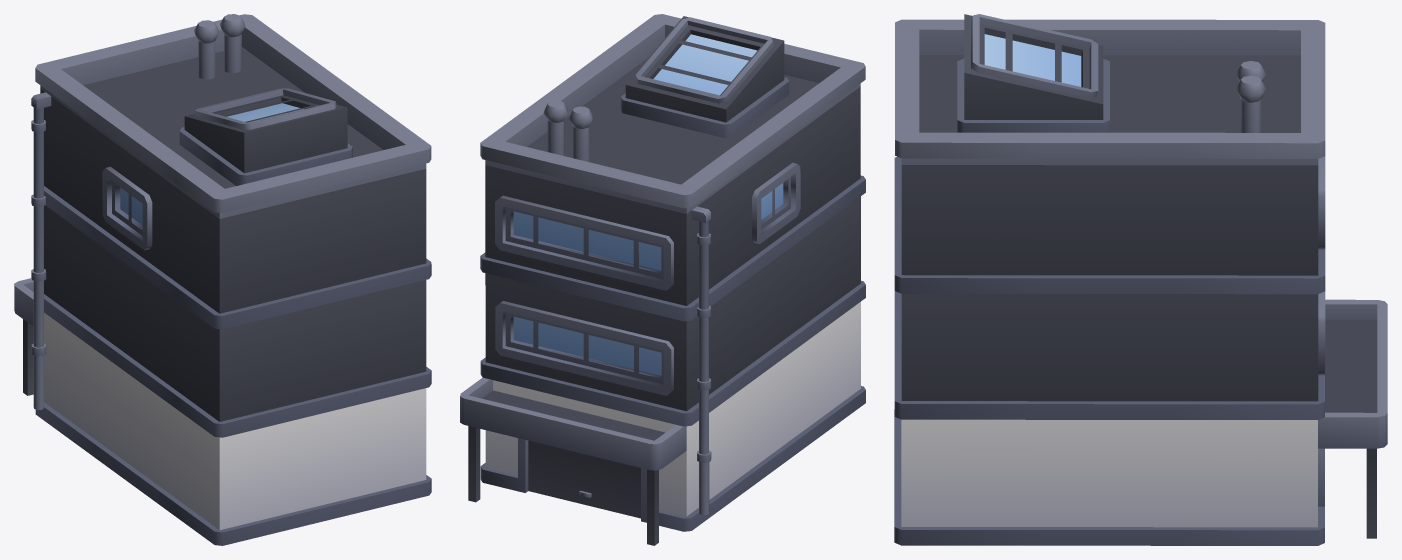
The model's file is building-d_lev1.glb.
The picture shows the model from 3 angles, left to right: view 1: azimuth 30°, elevation 25°; view 2: azimuth 150°, elevation 25°; view 3: azimuth 270°, elevation 25°; orthographic projection. The views are drawn at different scales.
Parts seen in each view (by area): view 1: building-d_lev1; view 2: building-d_lev1; view 3: building-d_lev1.
Part boxes in pixels (bbox=[...]): building-d_lev1: bbox=[14, 14, 431, 545]; building-d_lev1: bbox=[460, 14, 865, 545]; building-d_lev1: bbox=[894, 14, 1387, 545].
Size of the model in its own units: 0.8836 by 1.42 by 1.42.
1 material, 1 textured.
